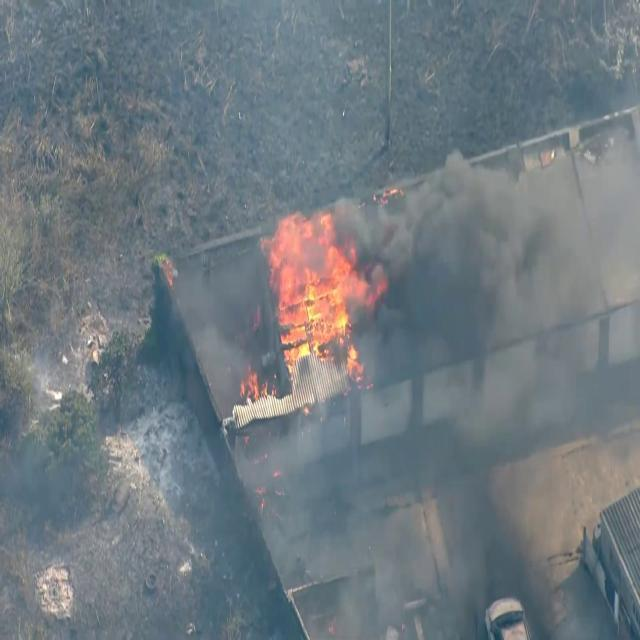Fire: (259, 204, 365, 380)
Smoke: (376, 168, 540, 350)
